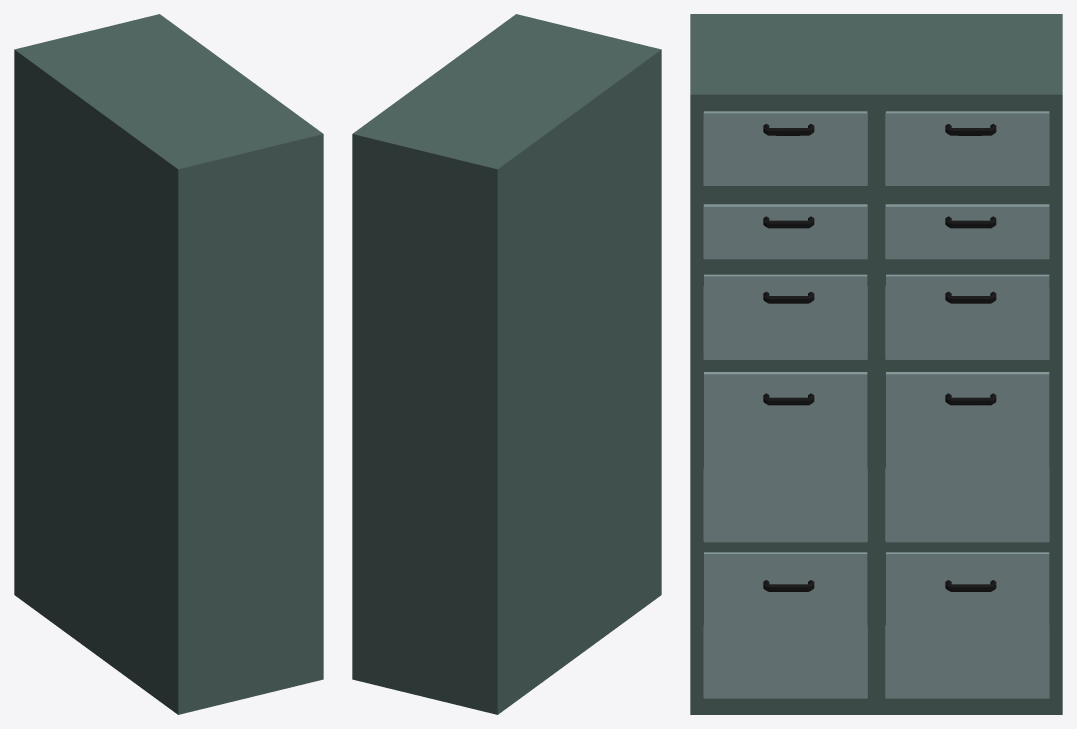
File: StBOX.fbx
3 views of the same model, side by side, from view 1: azimuth 30°, elevation 25°; view 2: azimuth 150°, elevation 25°; view 3: azimuth 270°, elevation 25° (orthographic). The views are drawn at different scales.
Parts seen in each view (by area): view 1: BASE; view 2: BASE; view 3: BASE, D7, D8, D9, D10, D5, D6, D1, D2, D3, D4.
Boxes of the visible parts, x1,y1,x2,y2 form: BASE: (14, 14, 323, 714); BASE: (352, 14, 661, 714); BASE: (690, 14, 1062, 714); D7: (886, 372, 1049, 542); D8: (704, 372, 867, 542); D9: (886, 552, 1049, 698); D10: (704, 552, 867, 698); D5: (704, 274, 867, 359); D6: (886, 274, 1049, 359); D1: (886, 111, 1049, 185); D2: (704, 111, 867, 185); D3: (886, 204, 1049, 259); D4: (704, 204, 867, 259).
Bounding box in the file's own units: 1.07 × 3.59 × 1.95.
